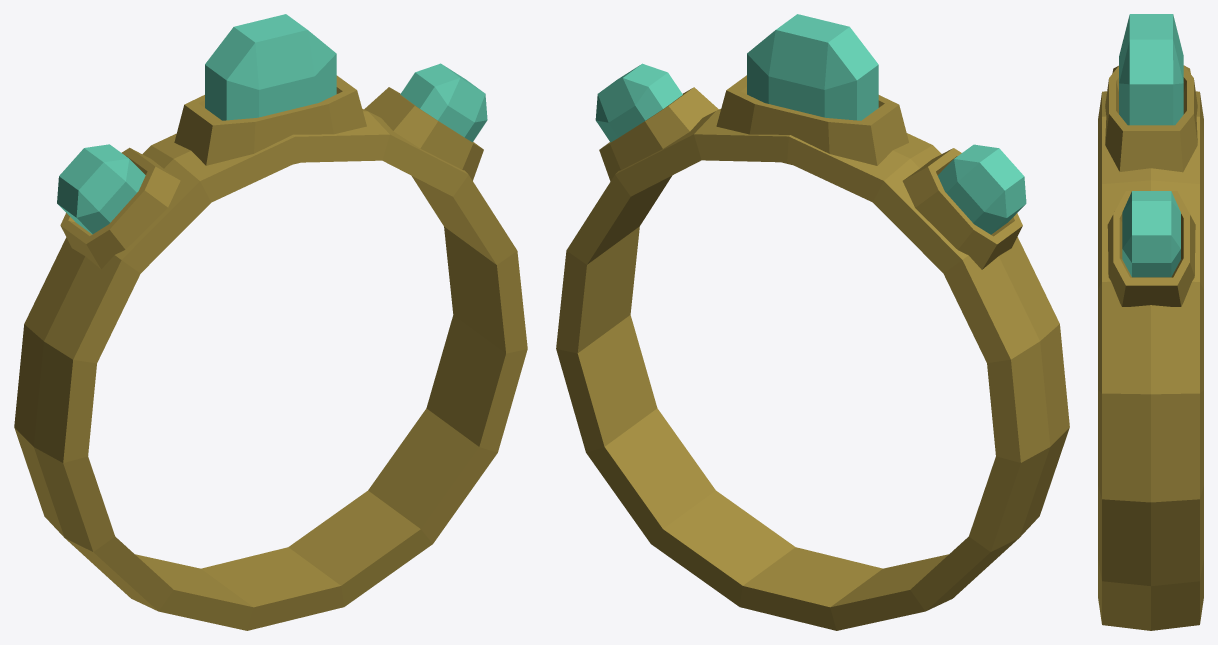
Rendered from Ring4.glb.
3 renders of one model, left to right at view 1: azimuth 30°, elevation 25°; view 2: azimuth 150°, elevation 25°; view 3: azimuth 270°, elevation 25°, orthographic.
Visible parts, largest first — view 1: Ring4_Torus.002; view 2: Ring4_Torus.002; view 3: Ring4_Torus.002.
Part boxes in pixels (x1,y1,x2,y2): Ring4_Torus.002: (14,14,527,630); Ring4_Torus.002: (556,14,1069,630); Ring4_Torus.002: (1098,14,1203,630).
Bounding box in the file's own units: 0.6635 × 0.7719 × 0.128.
